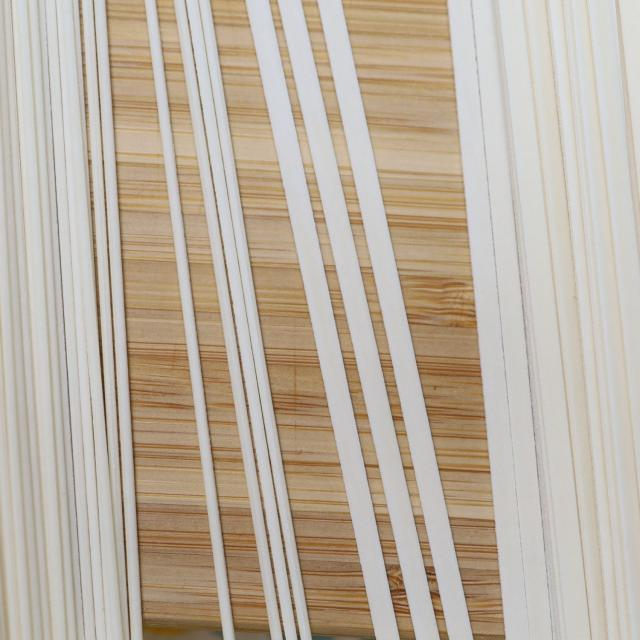noodles: (0, 0, 167, 640)
